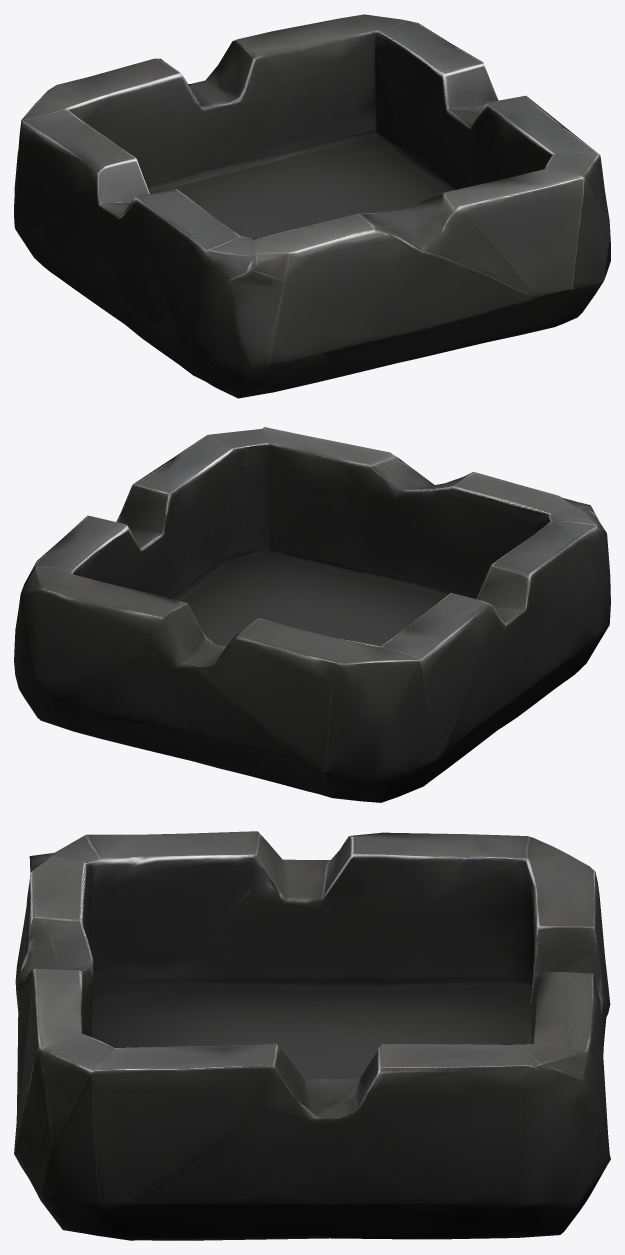
The model's file is stone+ashtray+3d+model.glb.
The picture shows the model from 3 angles, top to bottom: view 1: azimuth 30°, elevation 25°; view 2: azimuth 150°, elevation 25°; view 3: azimuth 270°, elevation 25°; orthographic projection. The views are drawn at different scales.
Visible parts, largest first — view 1: tripo_node_b34dfa3c-d49b-4327-8b5b-c93394678ef0; view 2: tripo_node_b34dfa3c-d49b-4327-8b5b-c93394678ef0; view 3: tripo_node_b34dfa3c-d49b-4327-8b5b-c93394678ef0.
Part boxes in pixels (x1,y1,x2,y2): tripo_node_b34dfa3c-d49b-4327-8b5b-c93394678ef0: [14, 14, 610, 398]; tripo_node_b34dfa3c-d49b-4327-8b5b-c93394678ef0: [14, 427, 610, 802]; tripo_node_b34dfa3c-d49b-4327-8b5b-c93394678ef0: [14, 831, 610, 1240].
Bounding box in the file's own units: 0.9987 × 0.3415 × 1.
Materials: 1 (1 with a texture image).
